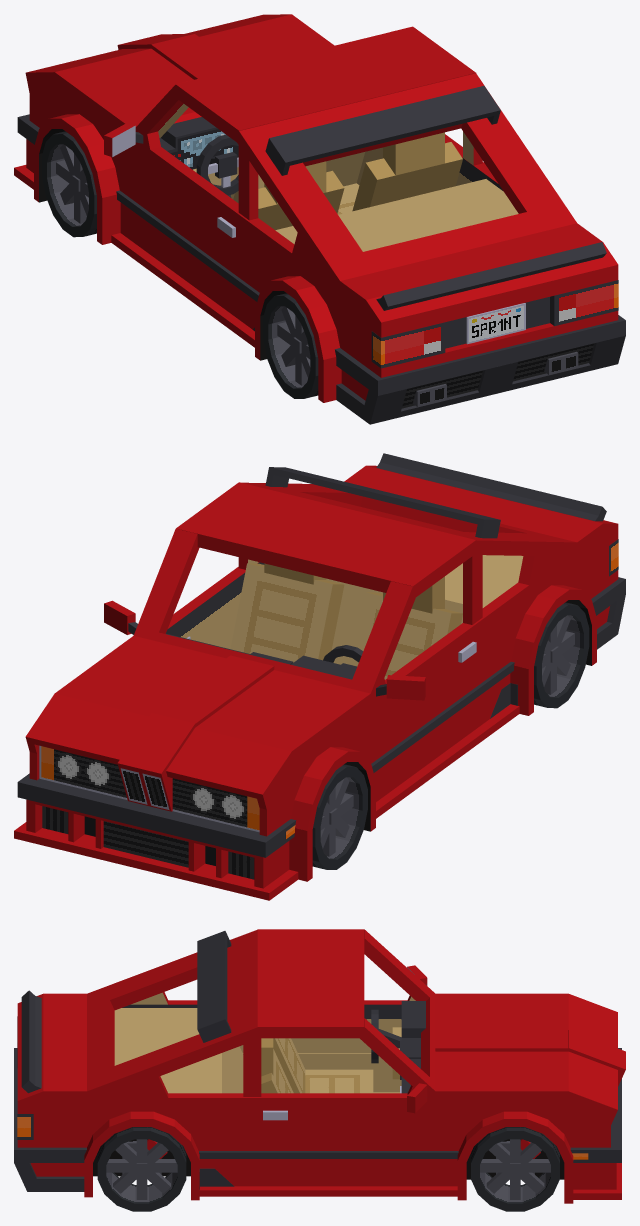
3 views of the same model, one above another, from view 1: azimuth 30°, elevation 25°; view 2: azimuth 150°, elevation 25°; view 3: azimuth 270°, elevation 25° (orthographic). The views are drawn at different scales.
Parts seen in each view (by area): view 1: bb_main (×47), hexadecagon3 (×3), hexadecagon4 (×3); view 2: bb_main (×43), hexadecagon6 (×2), hexadecagon3 (×3), hexadecagon4 (×3); view 3: bb_main (×52), cube (×8), hexadecagon3 (×2).
Part boxes in pixels (x1,y1,x2,y2): bb_main (×47): [25, 14, 625, 424]; hexadecagon3 (×3): [84, 143, 120, 244]; hexadecagon4 (×3): [305, 304, 341, 402]; bb_main (×43): [14, 453, 625, 900]; hexadecagon6 (×2): [42, 806, 188, 867]; hexadecagon3 (×3): [289, 775, 325, 881]; hexadecagon4 (×3): [510, 614, 546, 715]; bb_main (×52): [14, 929, 625, 1199]; cube (×8): [106, 1139, 550, 1199]; hexadecagon3 (×2): [457, 1156, 573, 1203].
Size of the model in its own units: 1.1 by 0.7 by 2.15.
Materials: 4 (2 with a texture image).
